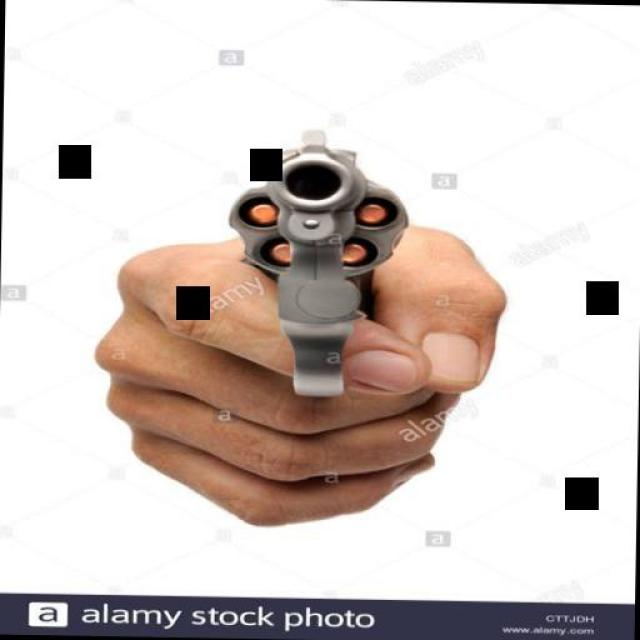gun: (210, 119, 412, 418)
